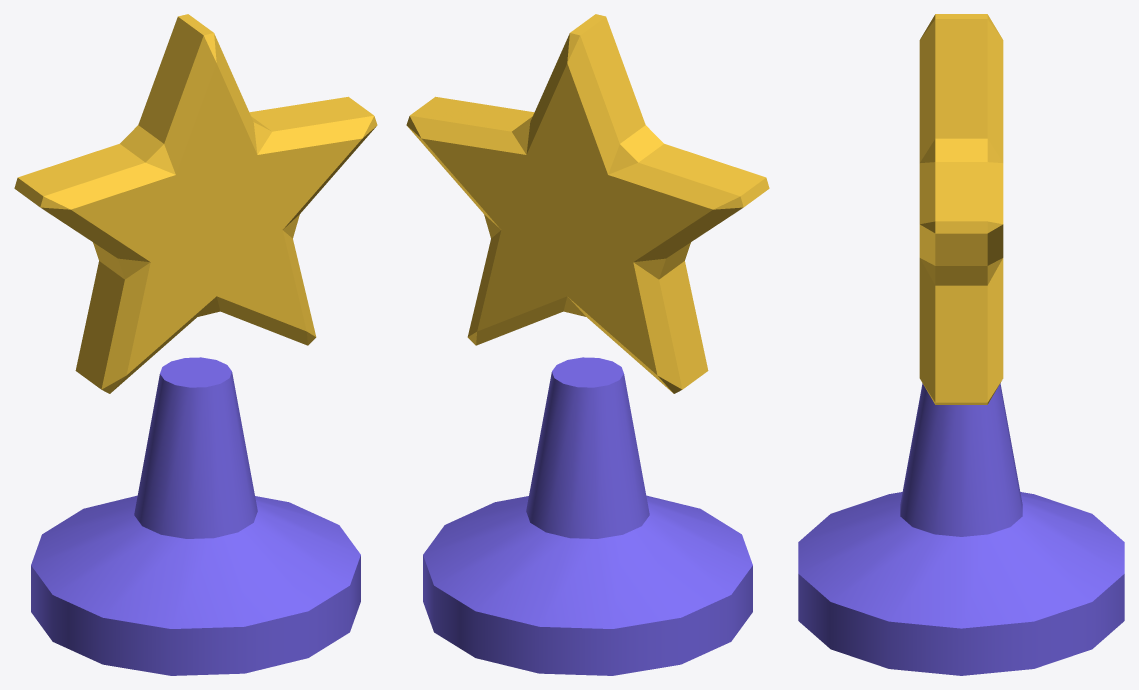
The model's file is trophy.glb.
The picture shows the model from 3 angles, left to right: view 1: azimuth 30°, elevation 25°; view 2: azimuth 150°, elevation 25°; view 3: azimuth 270°, elevation 25°; orthographic projection.
Parts seen in each view (by area): view 1: trophy; view 2: trophy; view 3: trophy.
Boxes of the visible parts, x1,y1,x2,y2 form: trophy: (14, 14, 377, 675); trophy: (406, 14, 769, 675); trophy: (798, 14, 1124, 675).
Bounding box in the file's own units: 0.7534 × 1.24 × 0.624.
